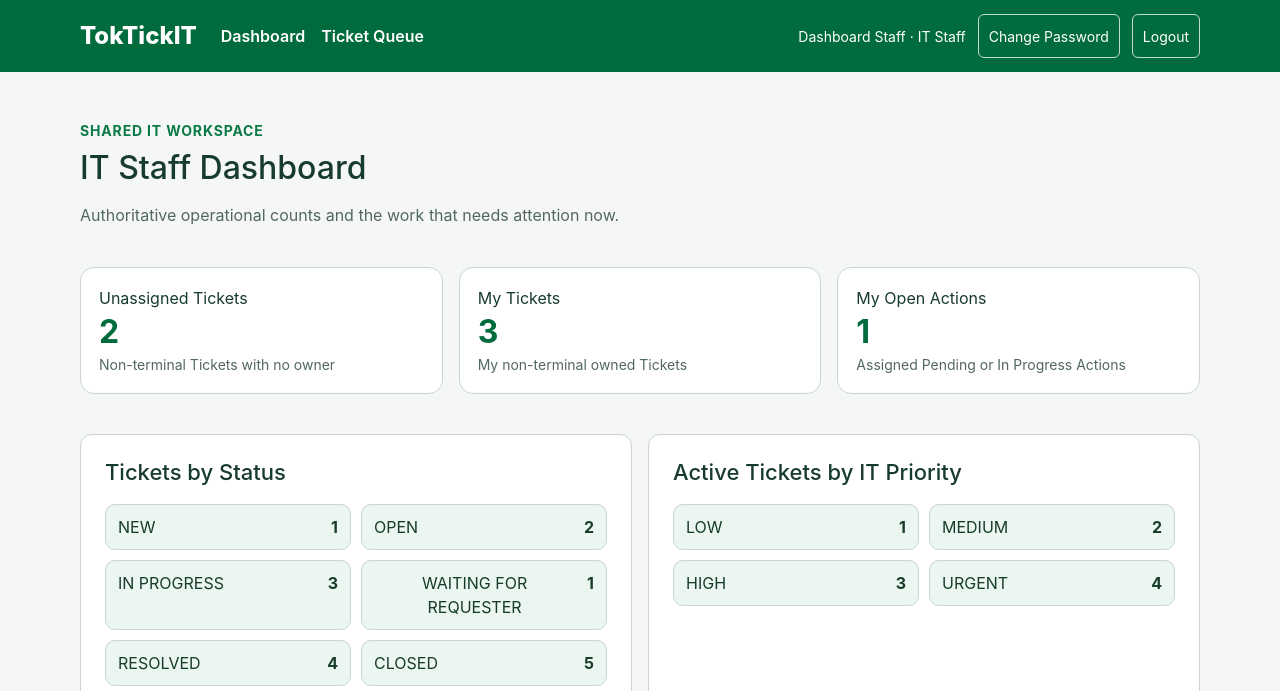
Test: Lab 4 Staff Dashboard UI › drills metric cards into the existing Queue with the intended filter
Click the button "Unassigned Tickets 2 Non-terminal Tickets with no owner" at x=173, y=298, box [80,267,443,394]
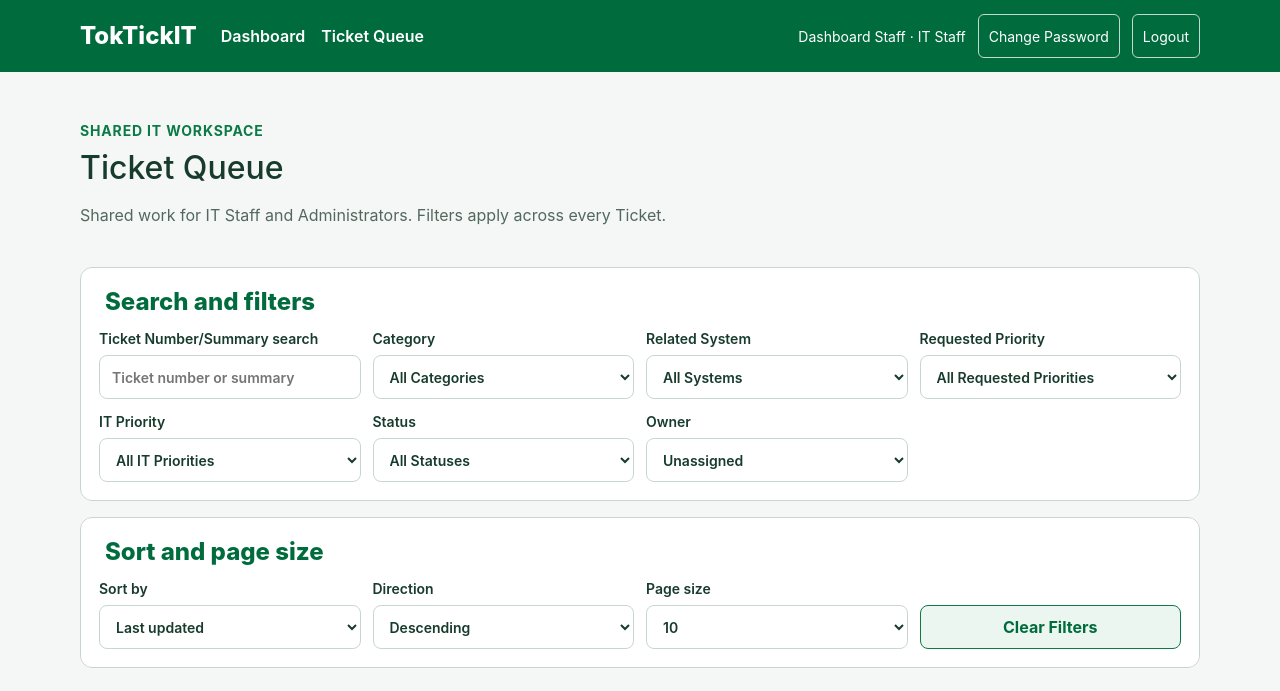
Now the heading "Ticket Queue" is shown, box [80,148,284,187]
